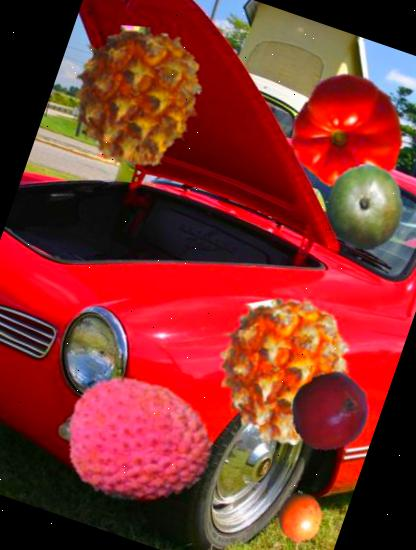Granadilla: (257, 482, 340, 550)
Lychee: (47, 347, 234, 534)
Mango: (309, 152, 416, 261)
Pineapple: (192, 278, 380, 466), (48, 8, 228, 188)
Pomegranate: (280, 360, 380, 460)
Tomato: (277, 61, 416, 207)
